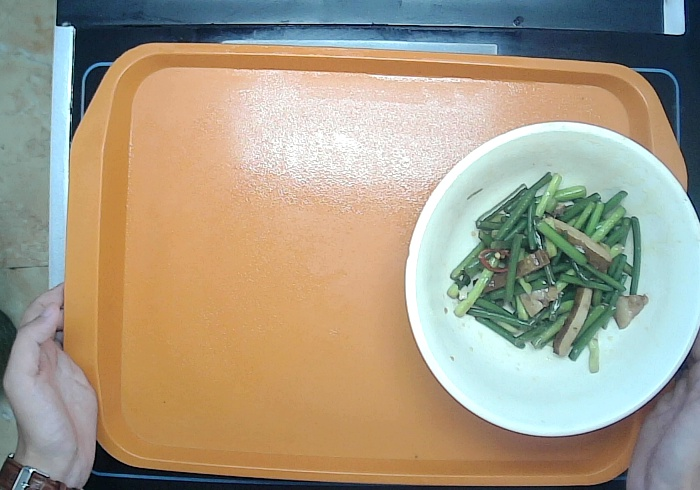ZNLD-Da_Tang_Wan: (405, 120, 700, 436)
